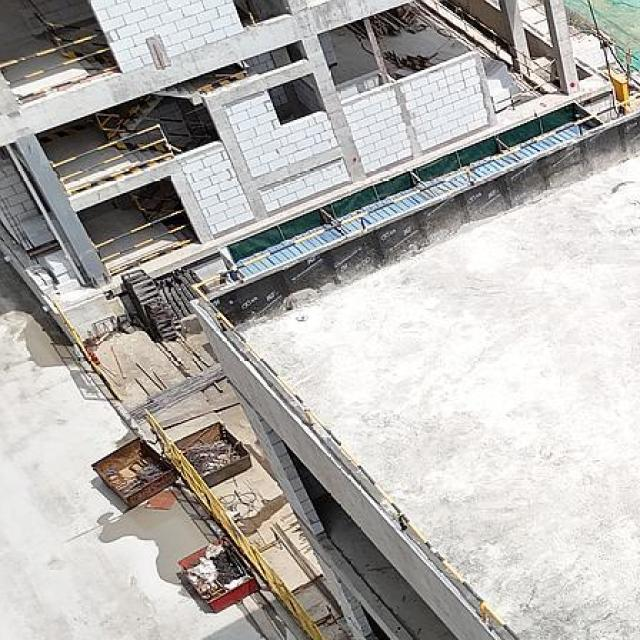edge_guardrail: (188, 90, 640, 640), (434, 0, 562, 90), (49, 123, 175, 198), (0, 31, 120, 103), (95, 208, 192, 263), (492, 84, 542, 115)
